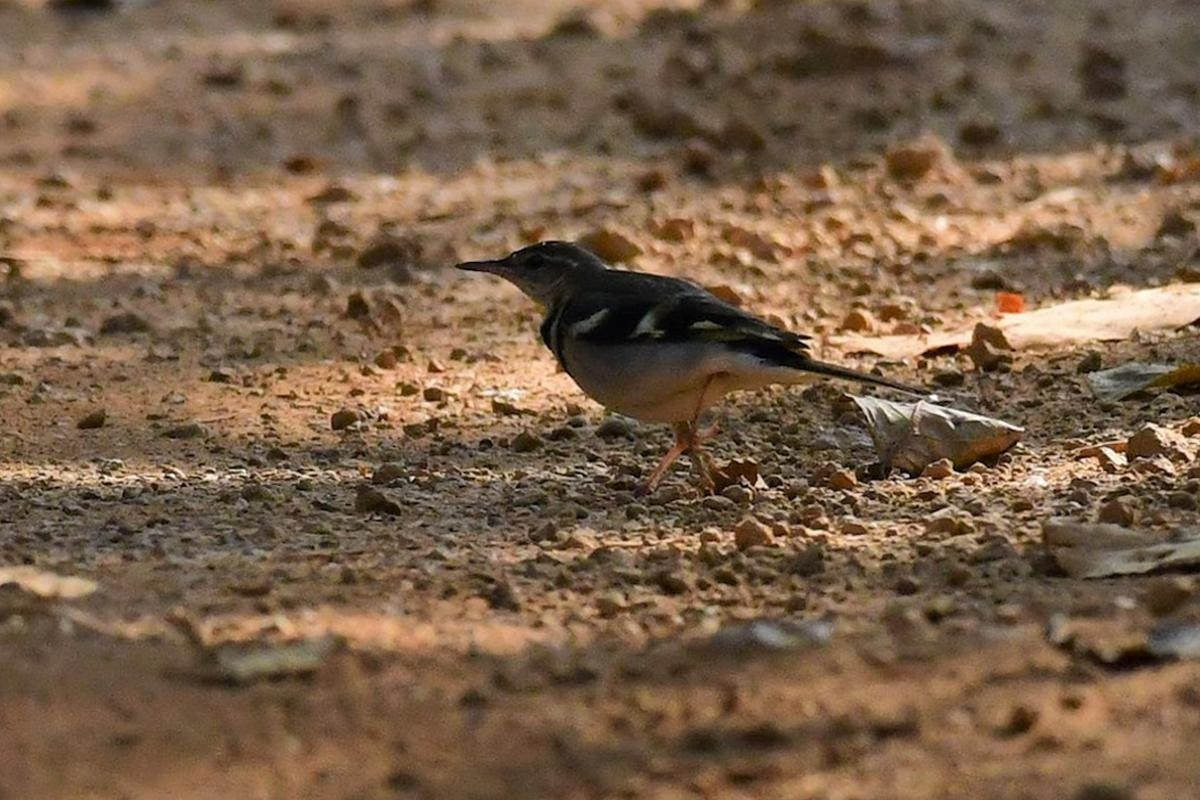wagtail: (463, 202, 905, 526)
